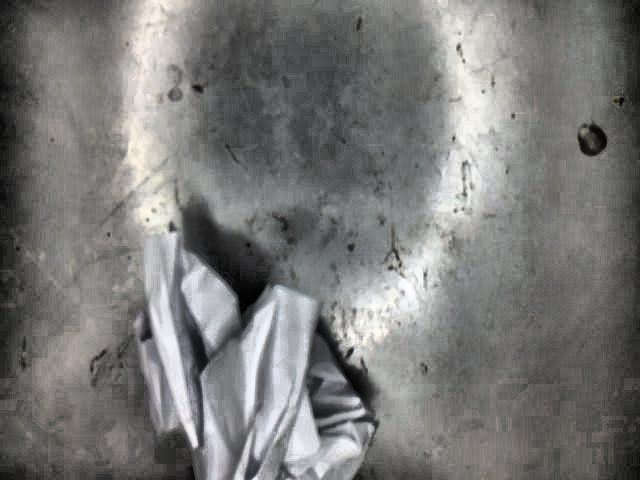Paper: (118, 223, 392, 480)
